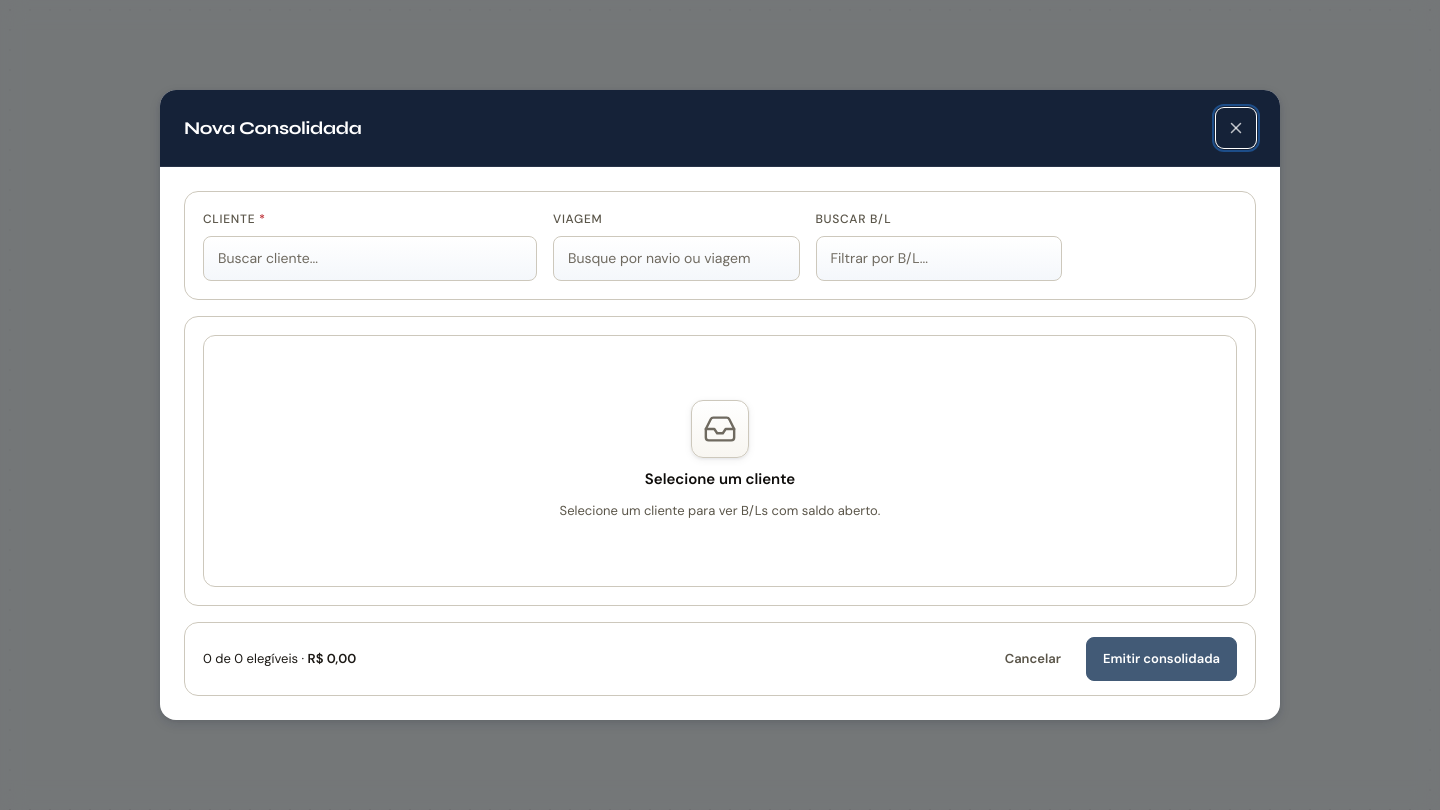
it: ConsolidatedInvoiceModal — seletor de cliente › abre o dropdown ao clicar e lista os clientes
Click the dropdown with placeholder "Buscar cliente...": [370, 259] box [203,236,537,281]
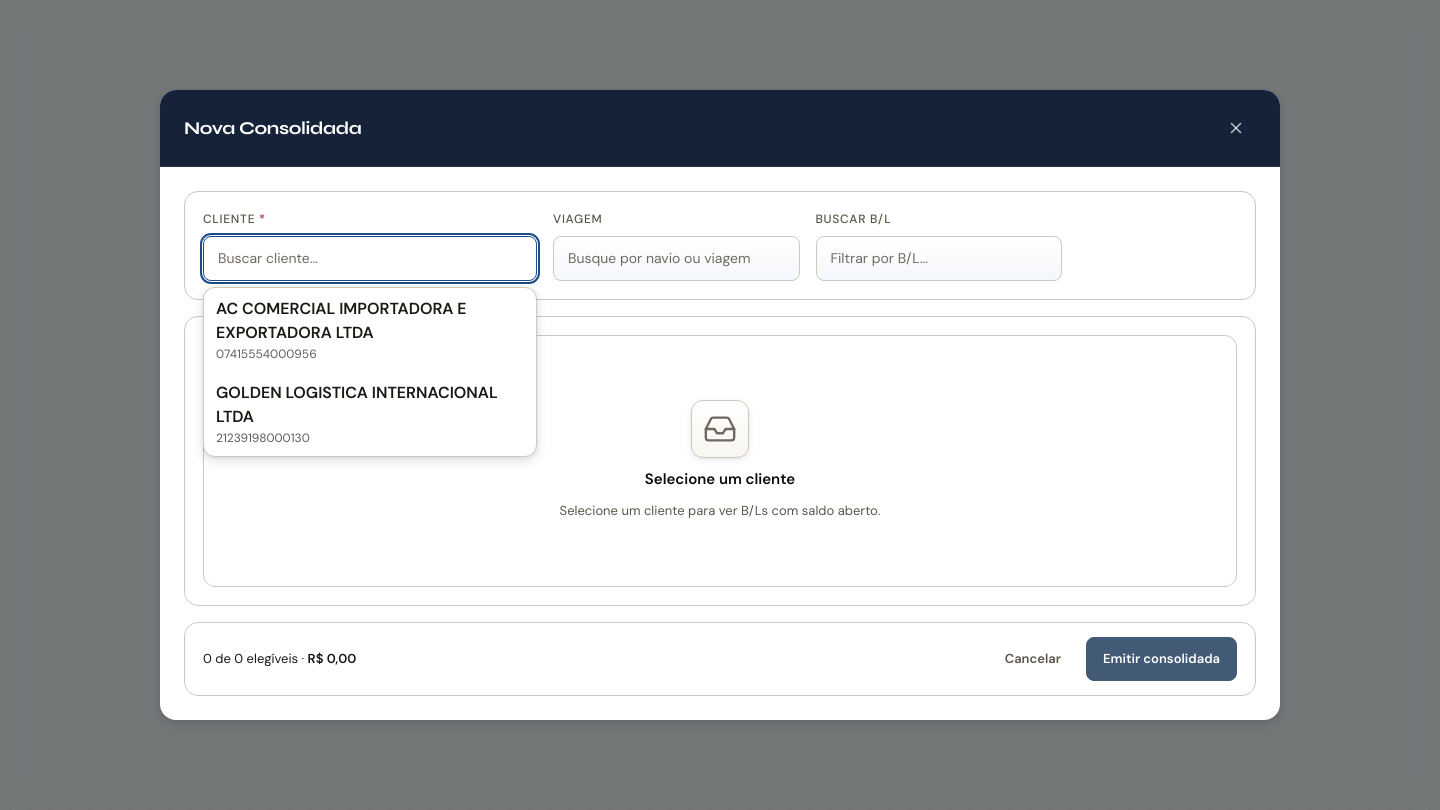
Expected: the number of options is 2, [204,288,536,372]; [204,372,536,456]
Expected: the option "AC COMERCIAL IMPORTADORA E EXPORTADORA LTDA 07415554000956" is shown, [204,288,536,372]
